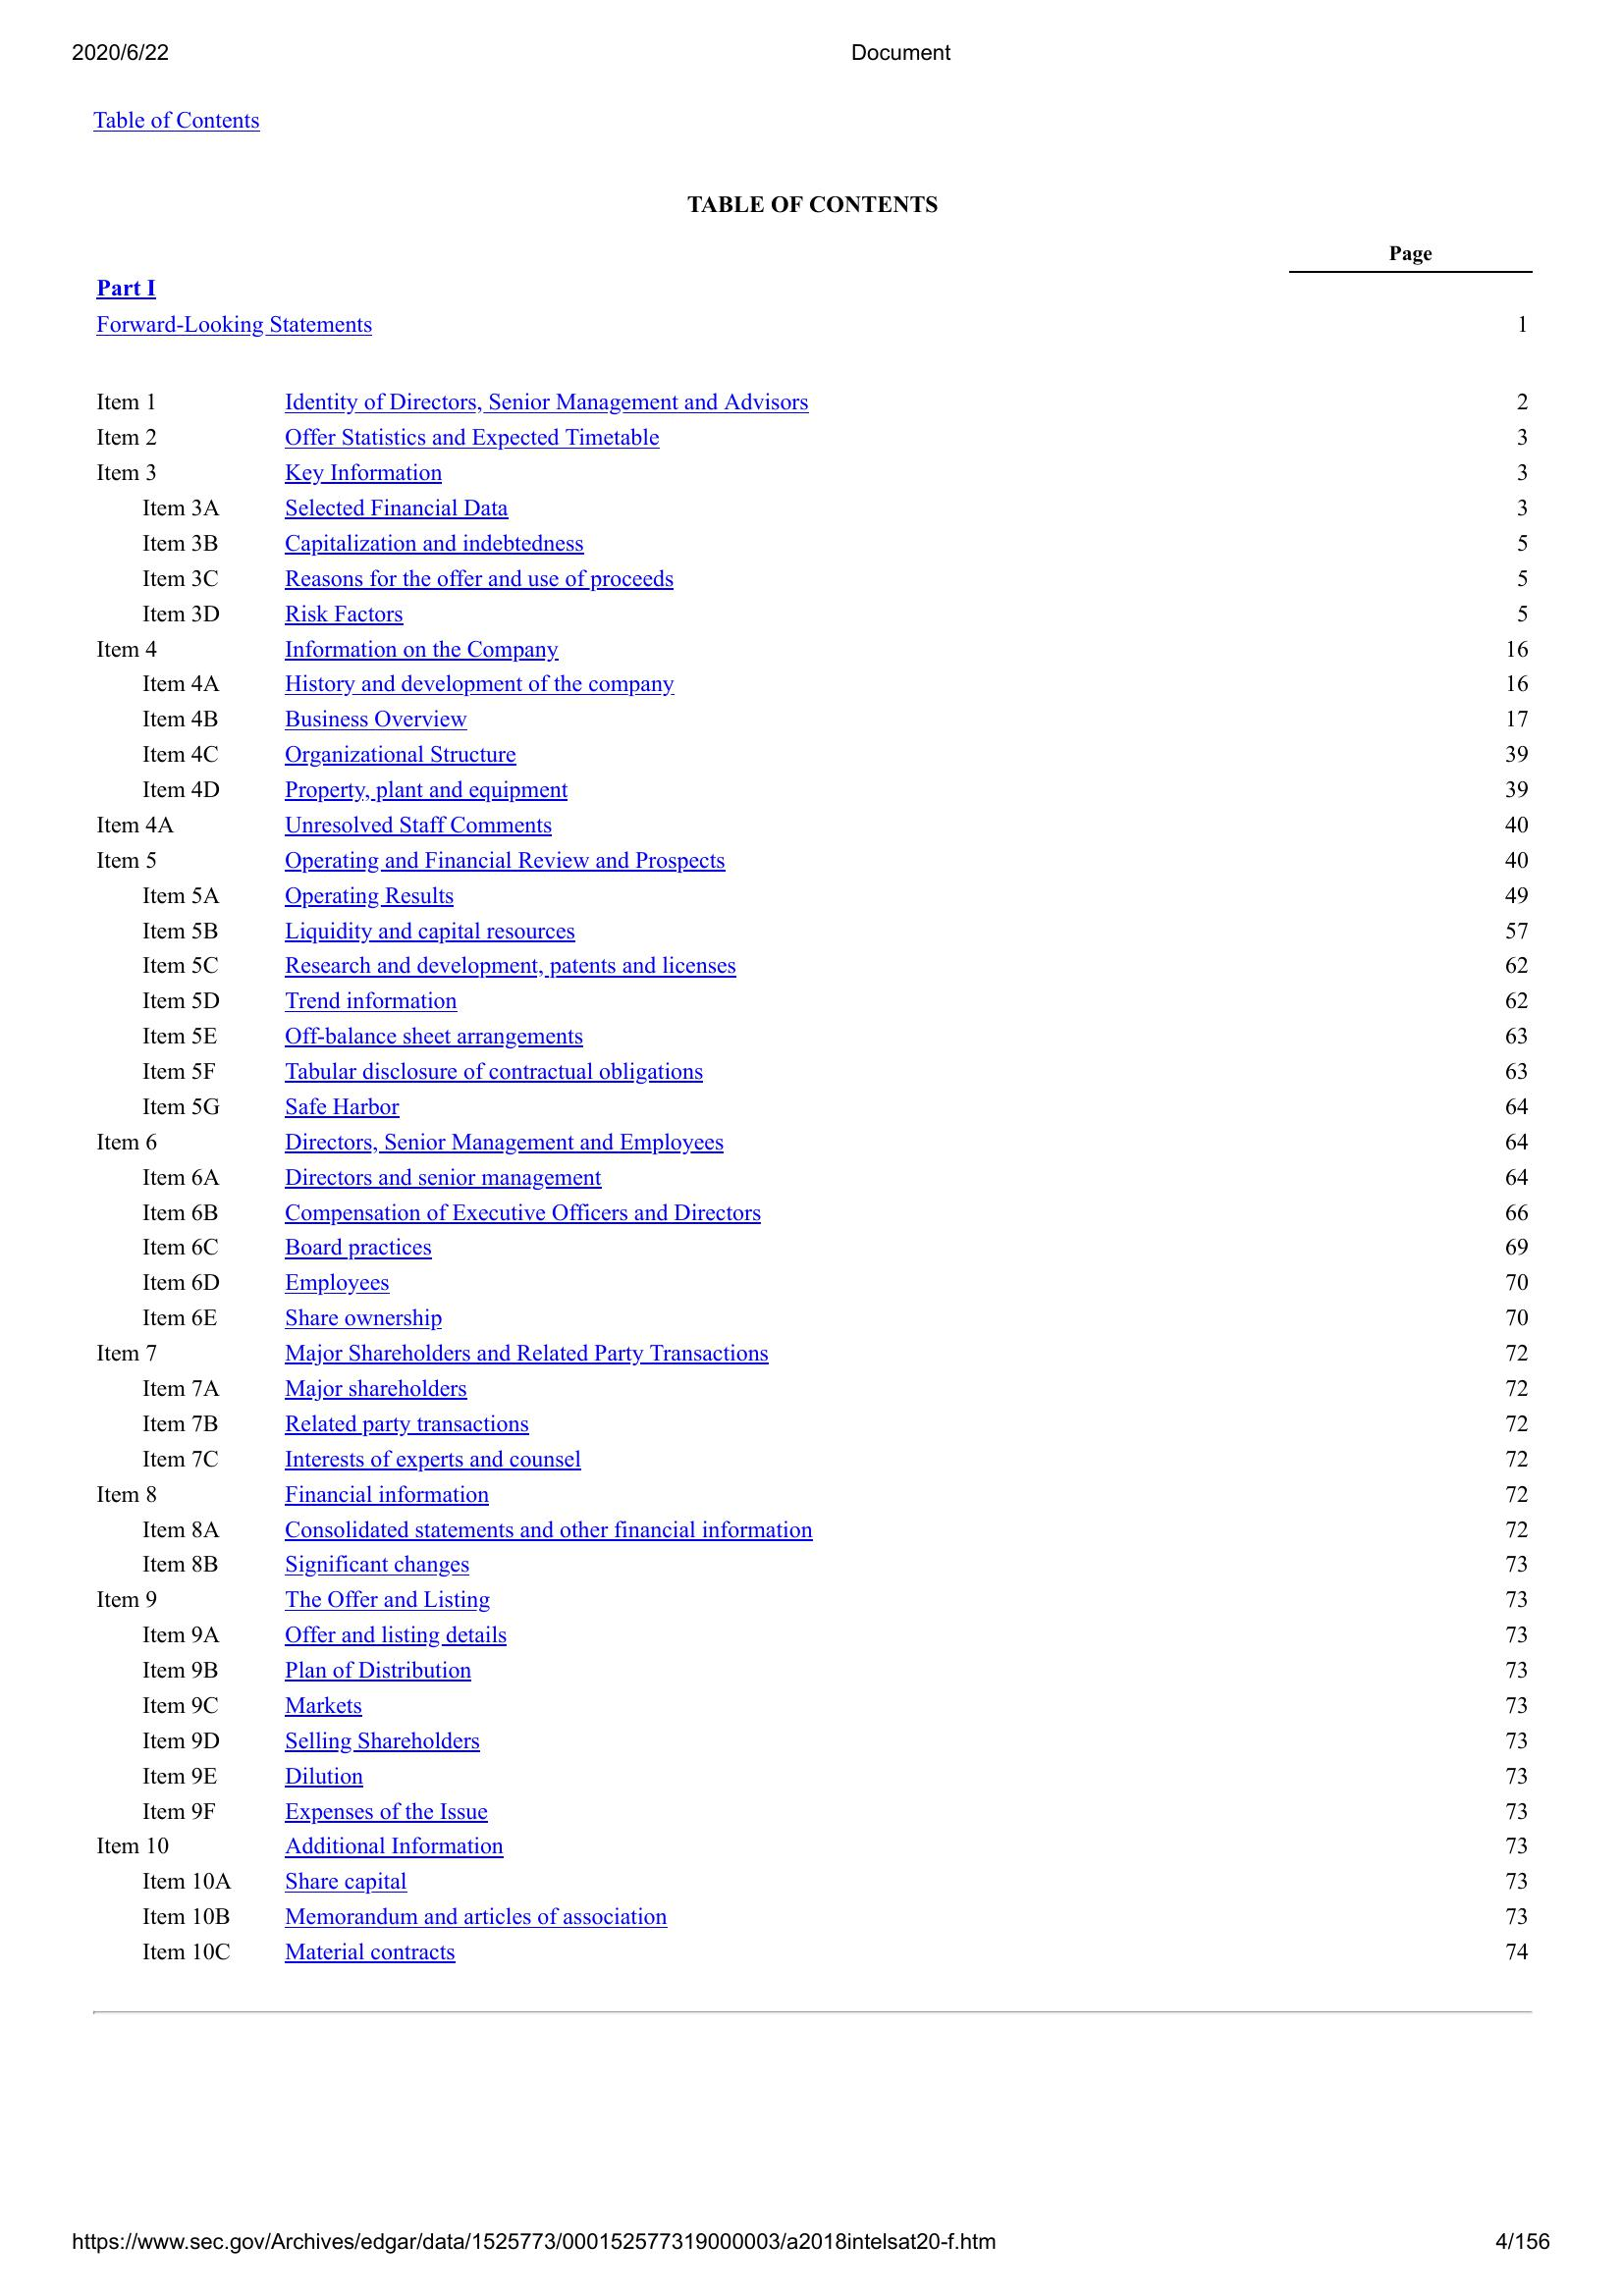table: (90, 235, 1539, 1977)
